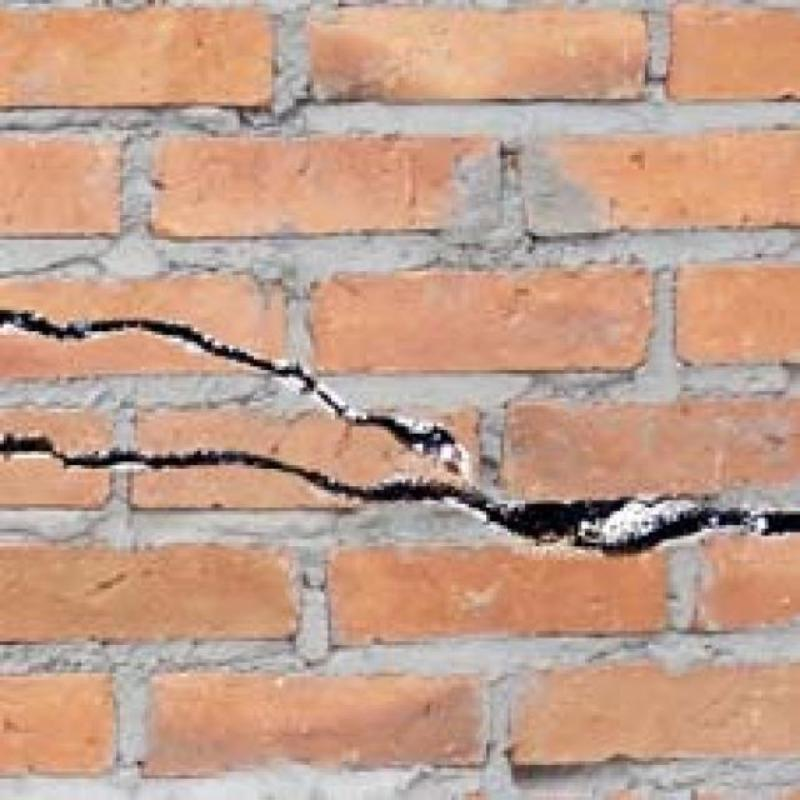crack: (0, 436, 800, 551), (0, 310, 461, 466)
